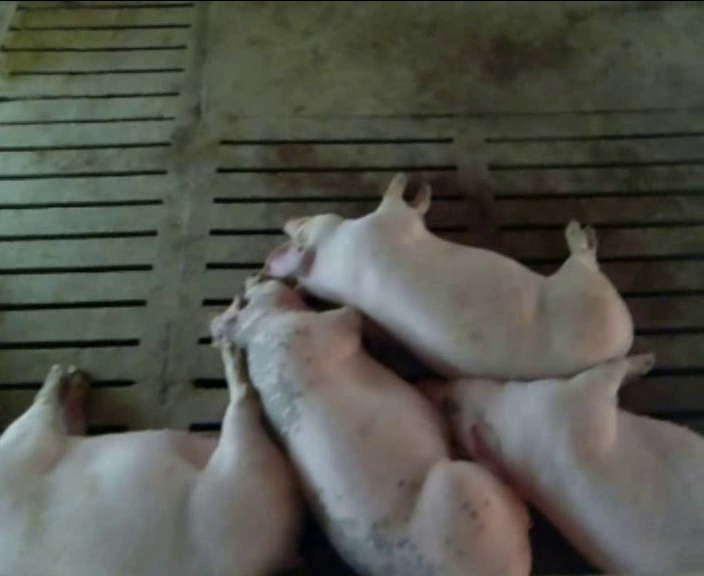pig: (211, 279, 530, 573), (266, 174, 631, 378), (0, 342, 299, 573), (417, 355, 703, 573)
